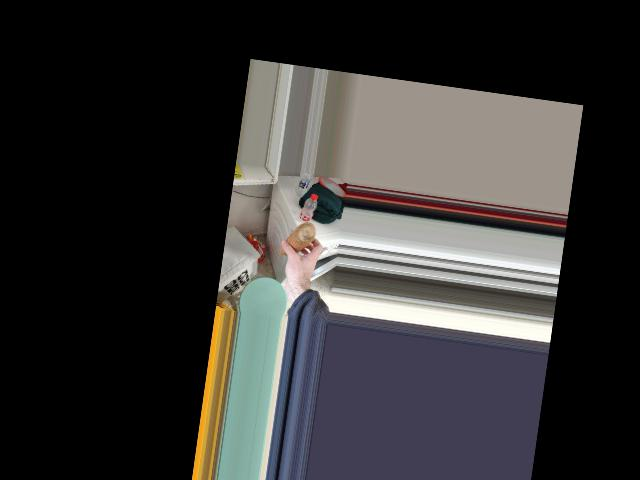sweet_potato: (277, 218, 314, 257)
